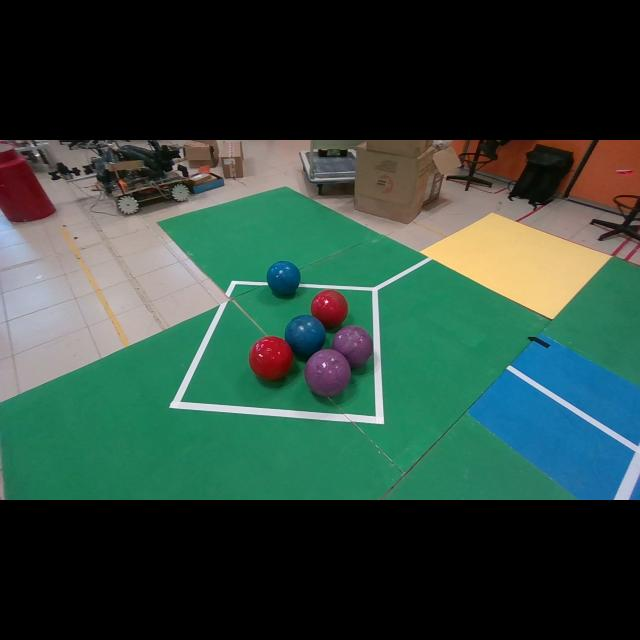B: (285, 315, 326, 357), (266, 261, 300, 295)
P: (305, 350, 351, 396), (331, 325, 372, 368)
R: (249, 336, 294, 381), (311, 290, 349, 329)
